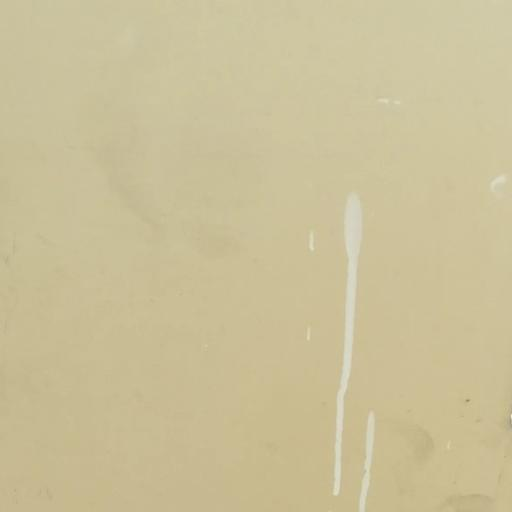stain: (253, 124, 460, 512)
